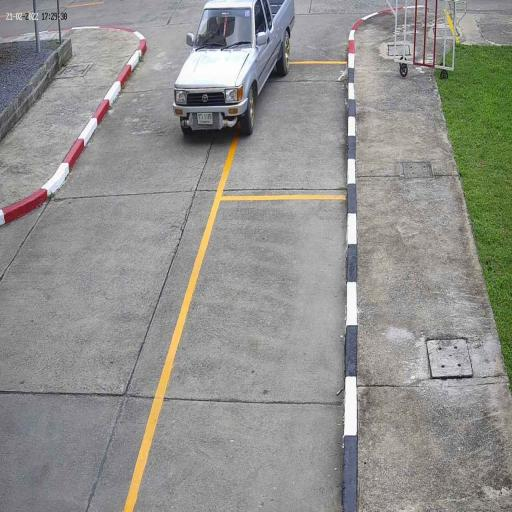car: (173, 0, 296, 140)
